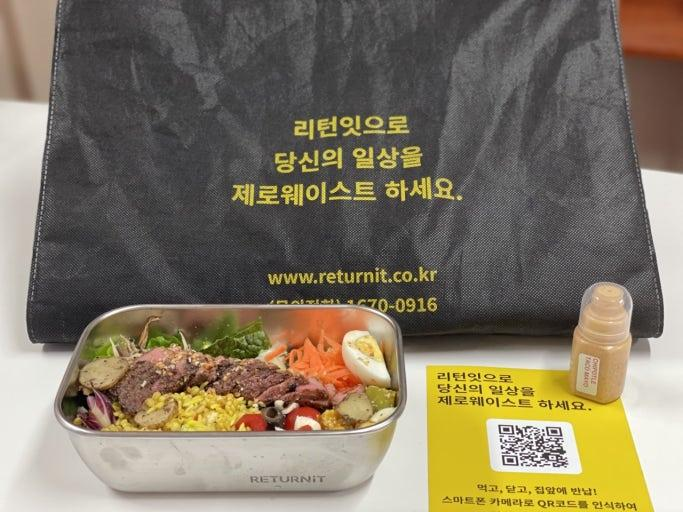Bottle: (569, 282, 632, 403)
Lunch Box: (54, 304, 405, 491)
